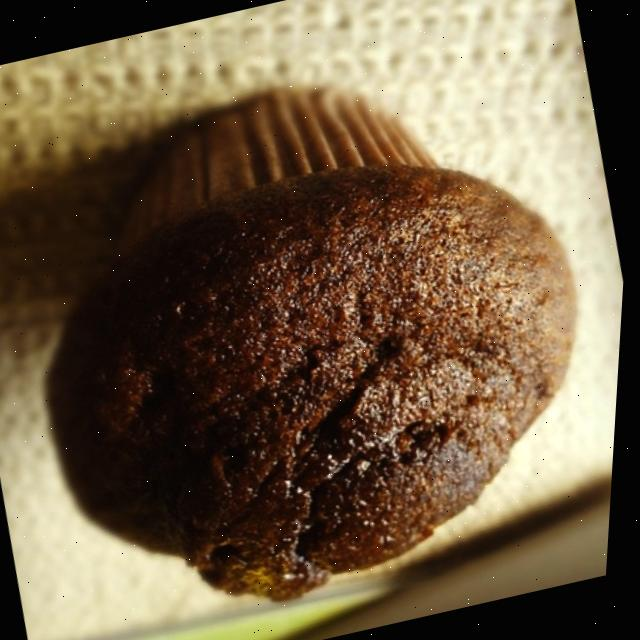炸货点心: (0, 9, 640, 640)
面包点心: (0, 9, 640, 640)
